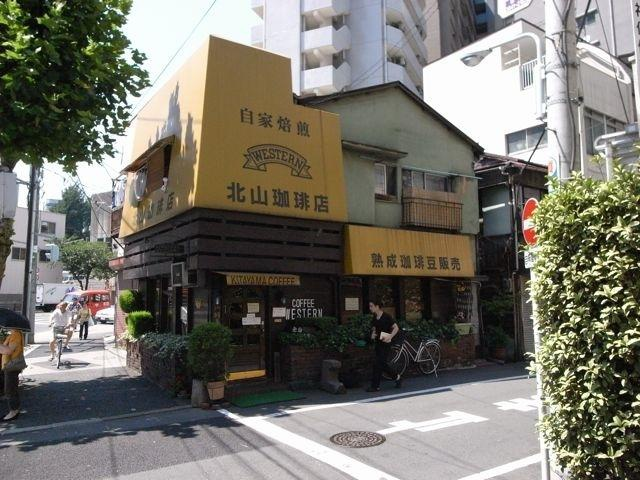non-vehicle: (380, 328, 440, 380), (48, 325, 67, 367)
